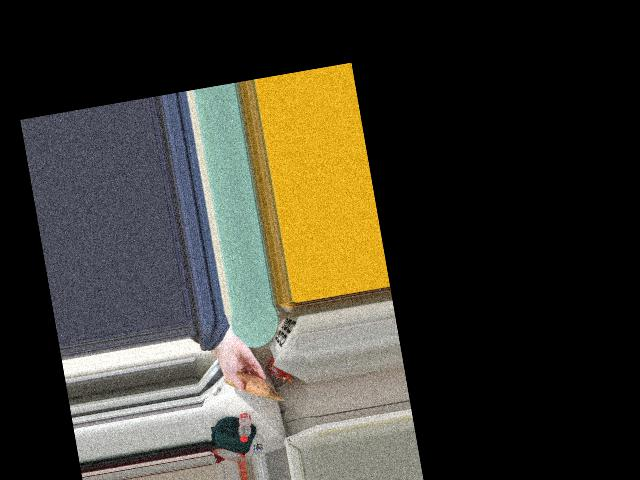sweet_potato: (231, 368, 269, 400)
